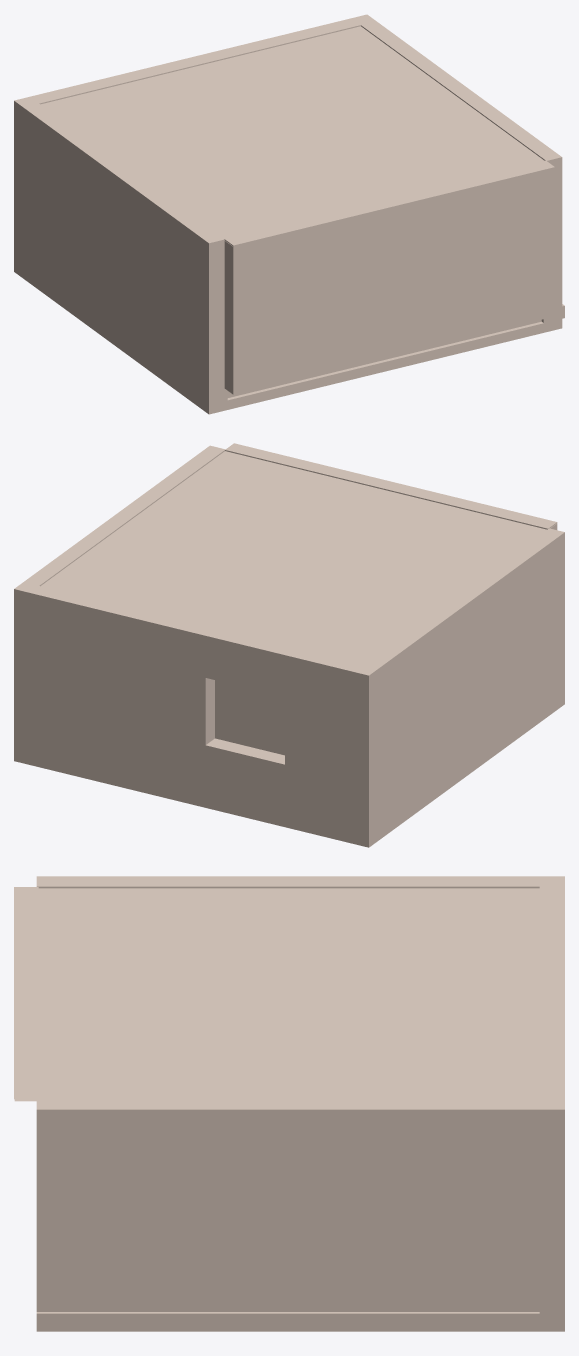
The model's file is polyroom.glb.
3 views of the same model, one above another, from view 1: azimuth 30°, elevation 25°; view 2: azimuth 150°, elevation 25°; view 3: azimuth 270°, elevation 25° (orthographic). The views are drawn at different scales.
Parts seen in each view (by area): view 1: room; view 2: room; view 3: room.
Part boxes in pixels (<box>): room: <box>14,14,564,414</box>; room: <box>14,443,564,847</box>; room: <box>14,876,564,1331</box>.
Bounding box in the file's own units: 16.86 × 7.75 × 16.69.
